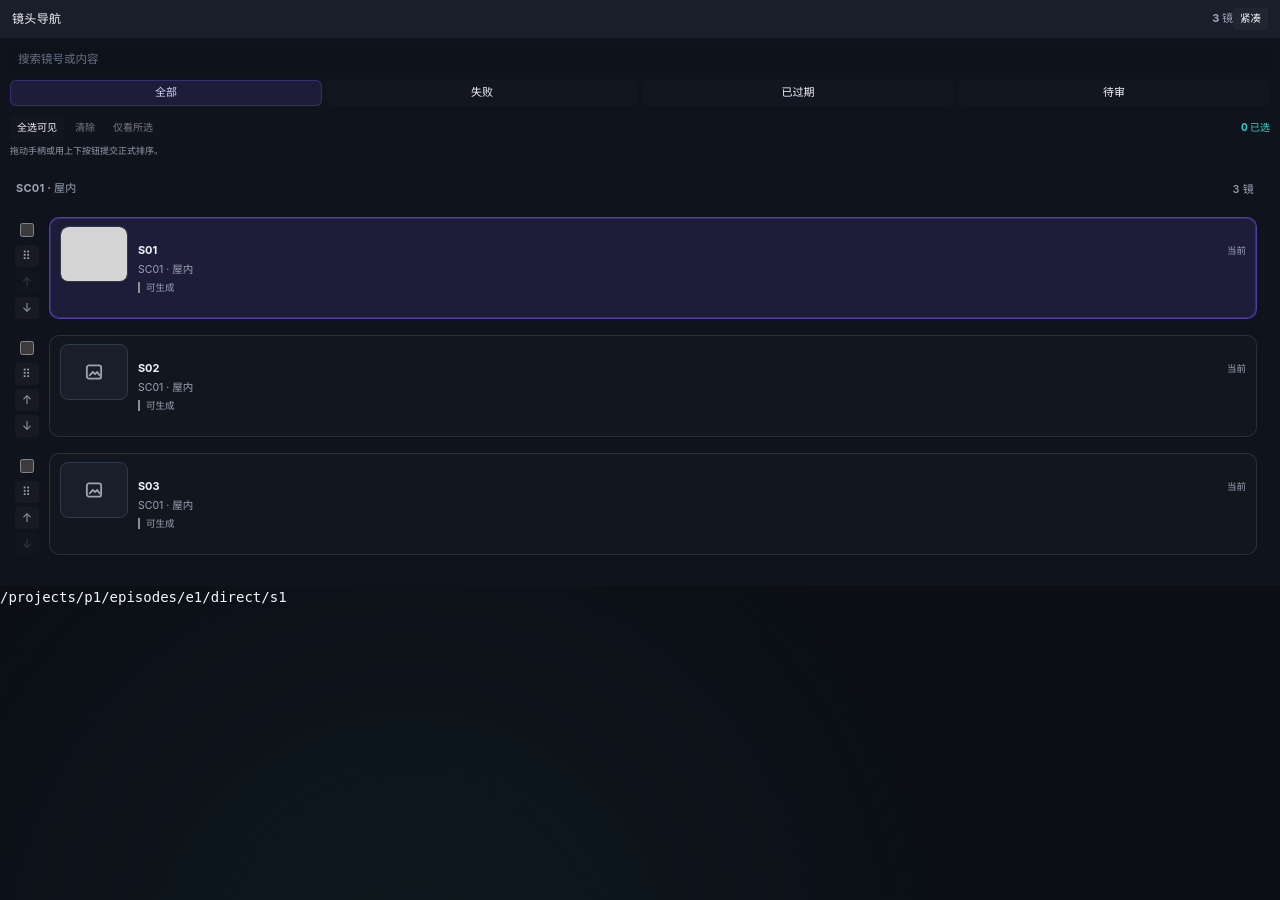
Test: ShotNavigator › disables formal reorder while a search is active
The image size is (1280, 900).
Type "S01" into the search field. click: (640, 59)
box: 10,44 -> 1270,74
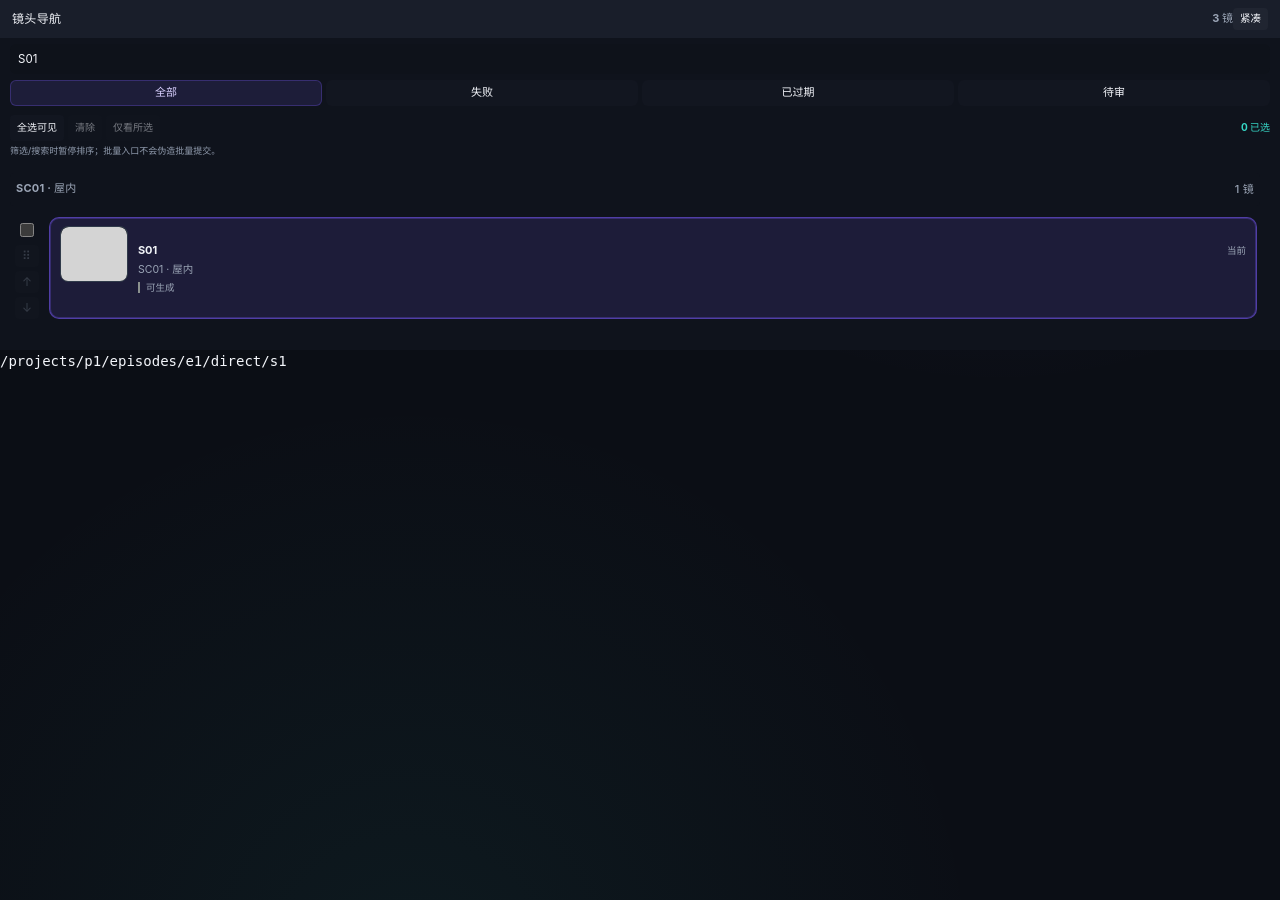
Expected: the button named "拖动镜头 S01" is disabled, 15,245 -> 39,267
Expected: the text "筛选/搜索时暂停排序；批量入口不会伪造批量提交。" is shown, 10,145 -> 220,156
